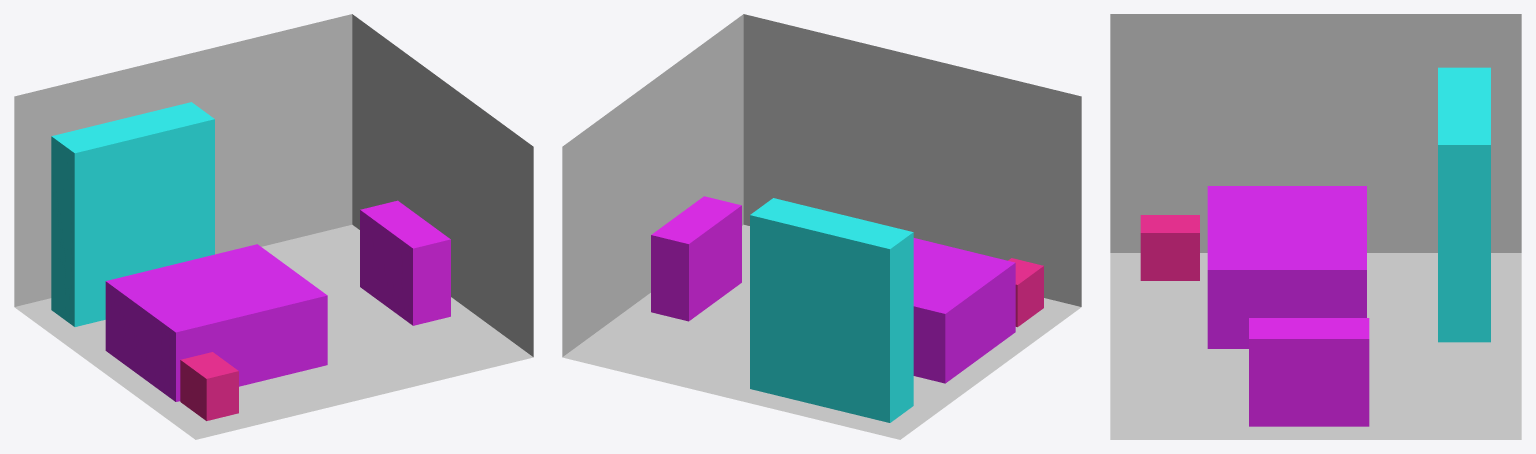
Rendered from fankenstein_bedroom_001_input.glb.
The picture shows the model from 3 angles, left to right: view 1: azimuth 30°, elevation 25°; view 2: azimuth 150°, elevation 25°; view 3: azimuth 270°, elevation 25°; orthographic projection. The views are drawn at different scales.
Parts seen in each view (by area): view 1: background-volfusion-it1000-test, BBox_0001_wardrobe, BBox_0000_bed, BBox_0003_cabinet, BBox_0002_table; view 2: background-volfusion-it1000-test, BBox_0001_wardrobe, BBox_0000_bed, BBox_0003_cabinet, BBox_0002_table; view 3: background-volfusion-it1000-test, BBox_0000_bed, BBox_0001_wardrobe, BBox_0003_cabinet, BBox_0002_table.
Part boxes in pixels (left/top/right/bottom): background-volfusion-it1000-test: left=14, top=14, right=533, bottom=439; BBox_0001_wardrobe: left=51, top=102, right=214, bottom=326; BBox_0000_bed: left=105, top=244, right=327, bottom=401; BBox_0003_cabinet: left=360, top=200, right=450, bottom=325; BBox_0002_table: left=180, top=352, right=238, bottom=420; background-volfusion-it1000-test: left=562, top=14, right=1081, bottom=439; BBox_0001_wardrobe: left=750, top=198, right=913, bottom=422; BBox_0000_bed: left=913, top=238, right=1015, bottom=383; BBox_0003_cabinet: left=651, top=196, right=741, bottom=321; BBox_0002_table: left=1008, top=258, right=1043, bottom=327; background-volfusion-it1000-test: left=1110, top=14, right=1521, bottom=439; BBox_0000_bed: left=1207, top=186, right=1366, bottom=348; BBox_0001_wardrobe: left=1438, top=67, right=1490, bottom=342; BBox_0003_cabinet: left=1249, top=318, right=1369, bottom=426; BBox_0002_table: left=1140, top=215, right=1199, bottom=280.
Size of the model in its own units: 0.7315 by 0.4355 by 0.6801.
